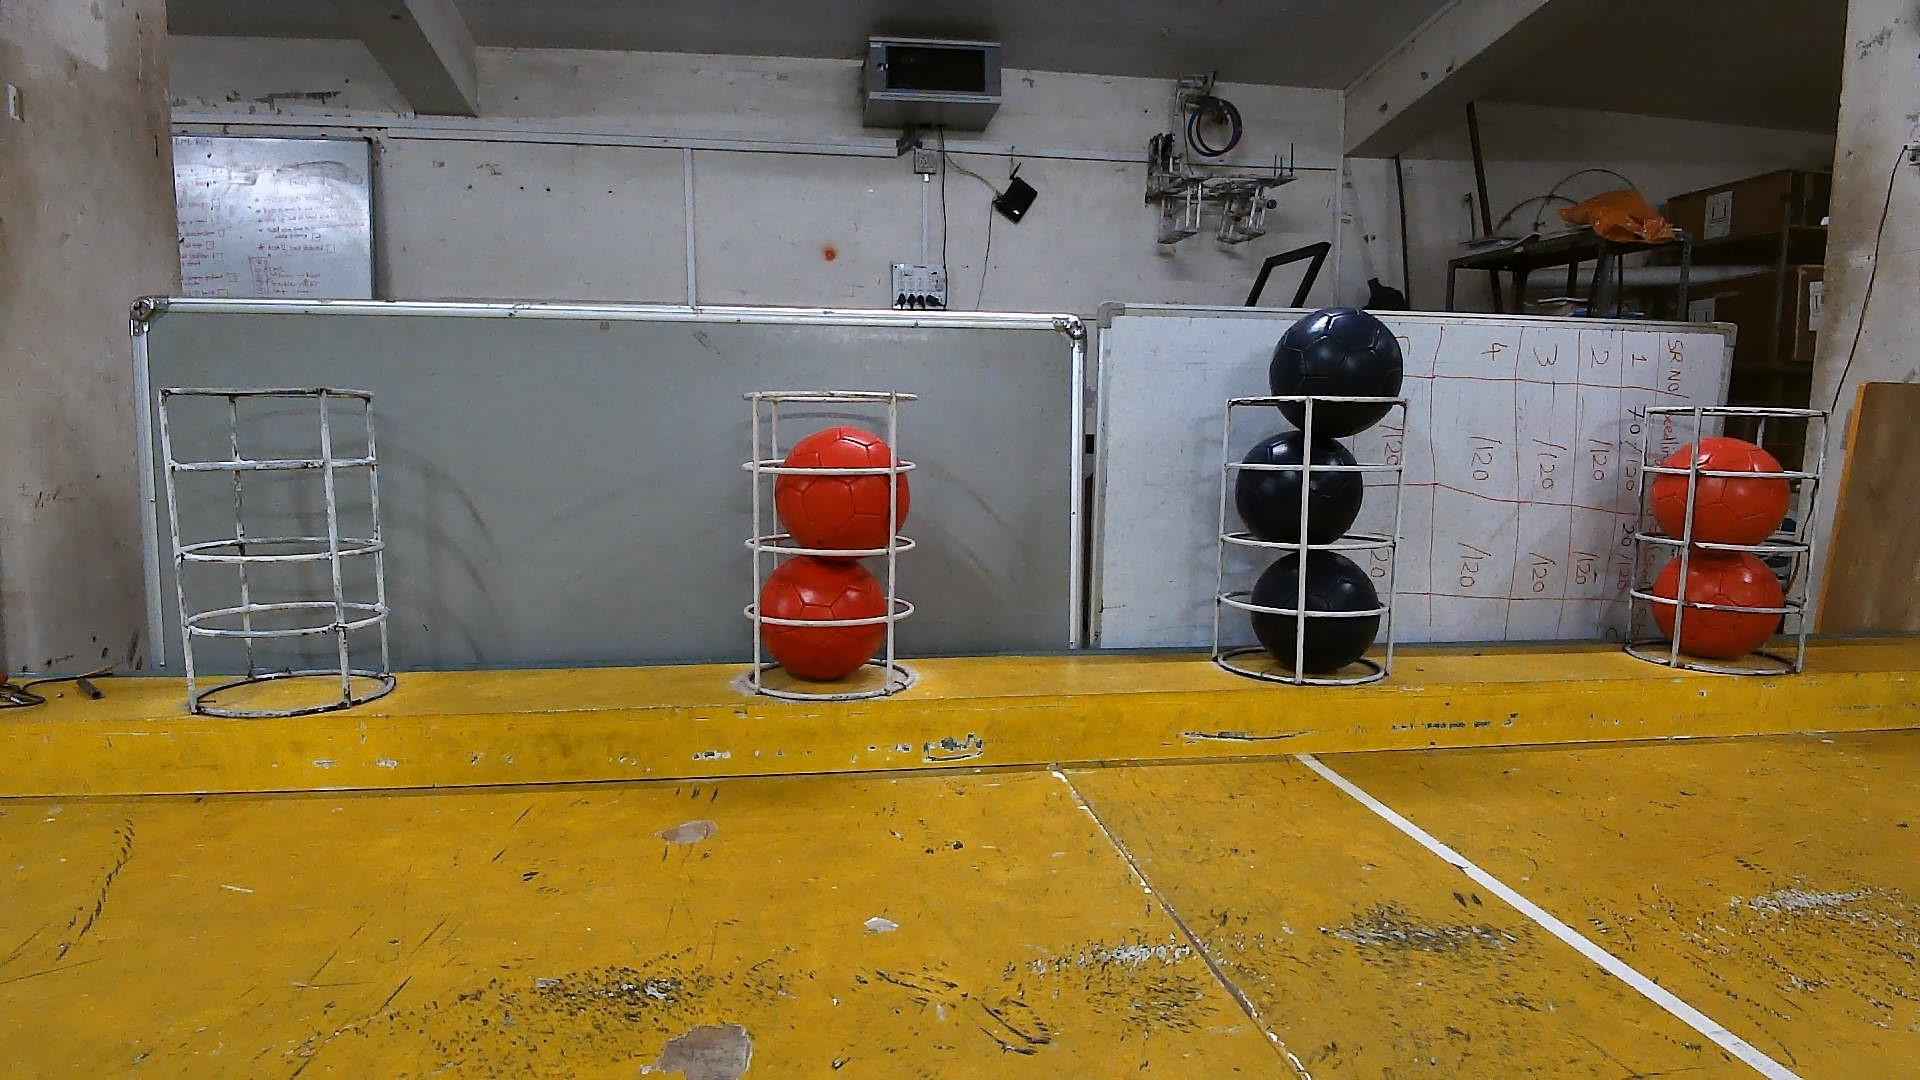dhoka: (1267, 307, 1403, 439), (1253, 547, 1383, 675), (1234, 431, 1365, 546)
laale: (773, 423, 911, 551), (757, 559, 885, 683), (1648, 549, 1784, 665), (1650, 435, 1788, 546)
